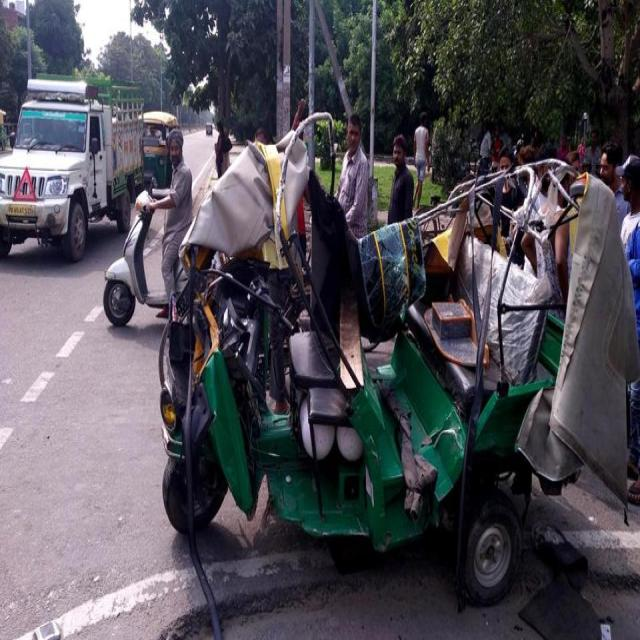accident: (159, 109, 640, 603)
autorickshaw: (142, 110, 177, 187), (203, 122, 214, 137)
motorcycle: (103, 126, 193, 330)
truck: (0, 77, 142, 264)
